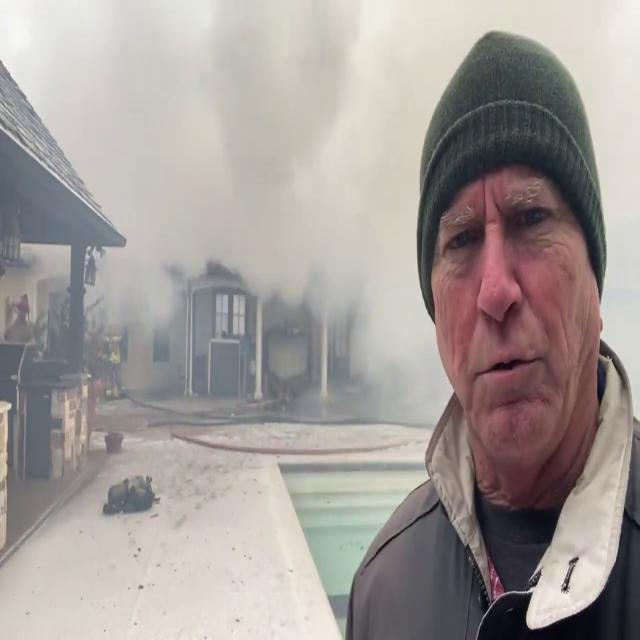Smoke: (8, 0, 446, 494)
